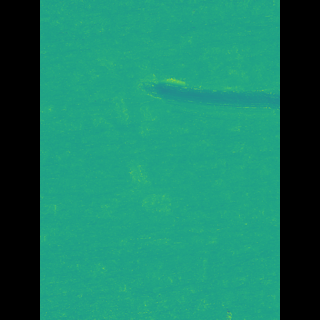Loch: (137, 73, 250, 129)
